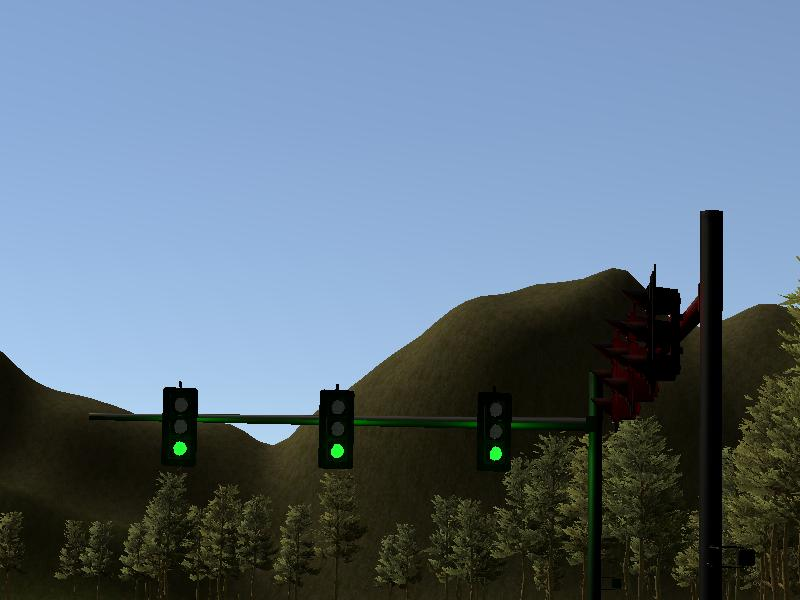Green: (162, 387, 195, 463), (479, 395, 511, 471), (323, 389, 350, 468)
